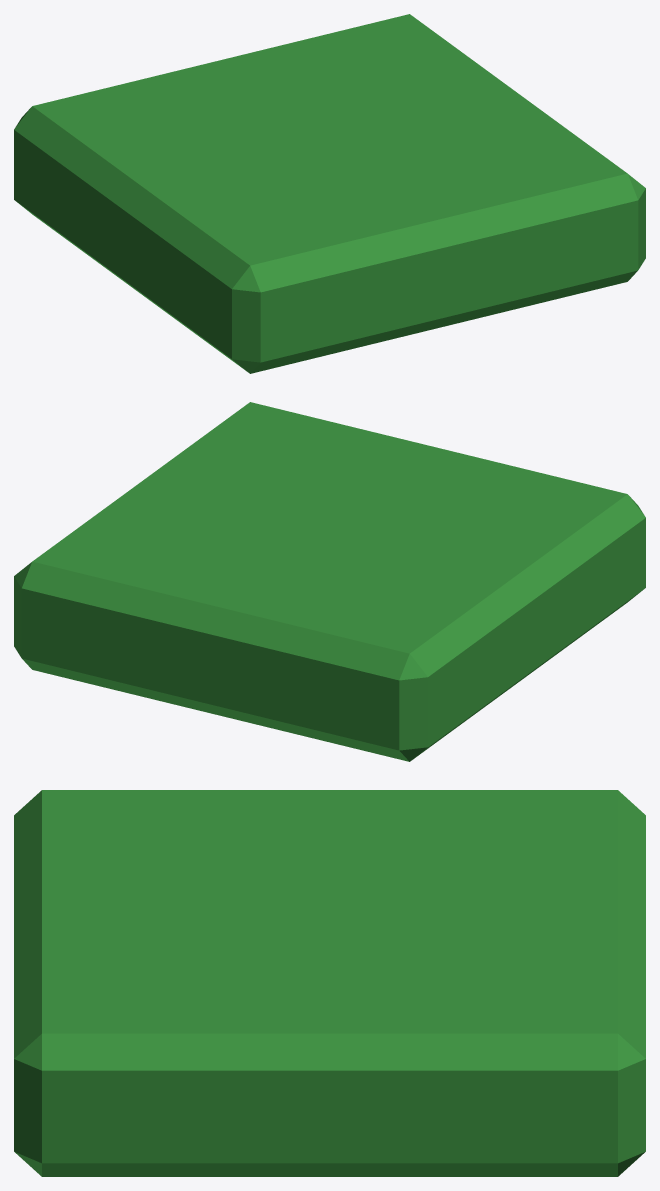
The model's file is Brick_000.FBX.
The picture shows the model from 3 angles, top to bottom: view 1: azimuth 30°, elevation 25°; view 2: azimuth 150°, elevation 25°; view 3: azimuth 270°, elevation 25°; orthographic projection. The views are drawn at different scales.
Parts seen in each view (by area): view 1: Brick_000; view 2: Brick_000; view 3: Brick_000.
Boxes of the visible parts, <box> form: Brick_000: <box>14,14,645,373</box>; Brick_000: <box>14,402,645,761</box>; Brick_000: <box>14,790,645,1176</box>.
Size of the model in its own units: 323 by 80.86 by 323.
